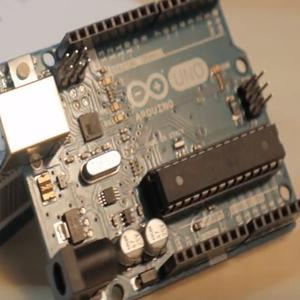duino: (0, 5, 295, 292)
